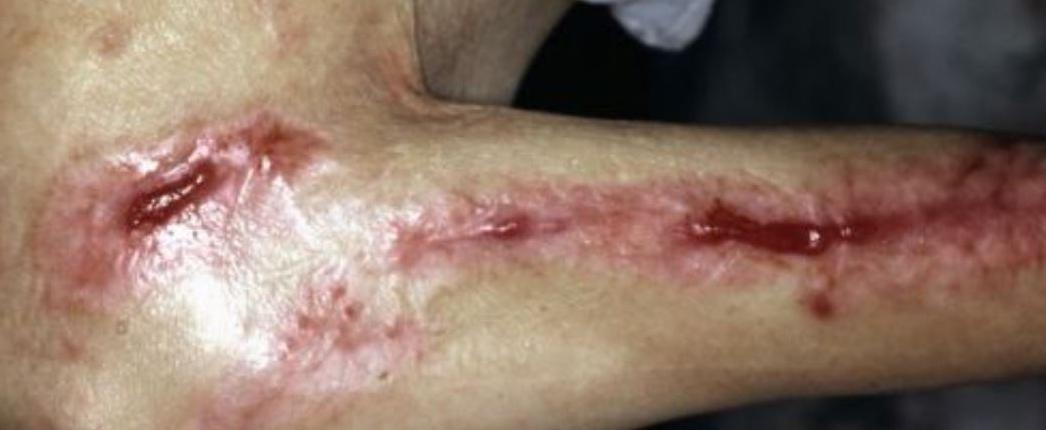NonPU: (63, 124, 1046, 350)
